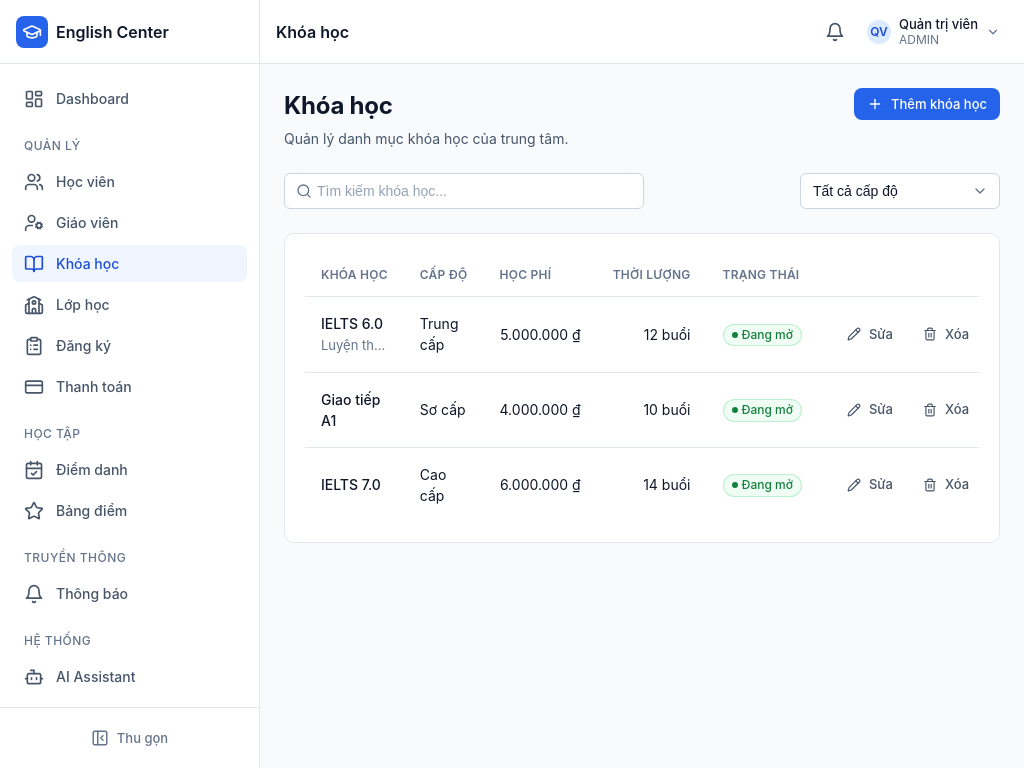
Test: CoursesPage › filters courses by search keyword and level client-side
This screenshot has width=1024, height=768.
Expected: the text "IELTS 6.0" is shown, left=321, top=313, right=388, bottom=334
Type "giao tiếp" into the search field labelled "Tìm kiếm khóa học". click: [464, 191]
box: left=284, top=173, right=644, bottom=209
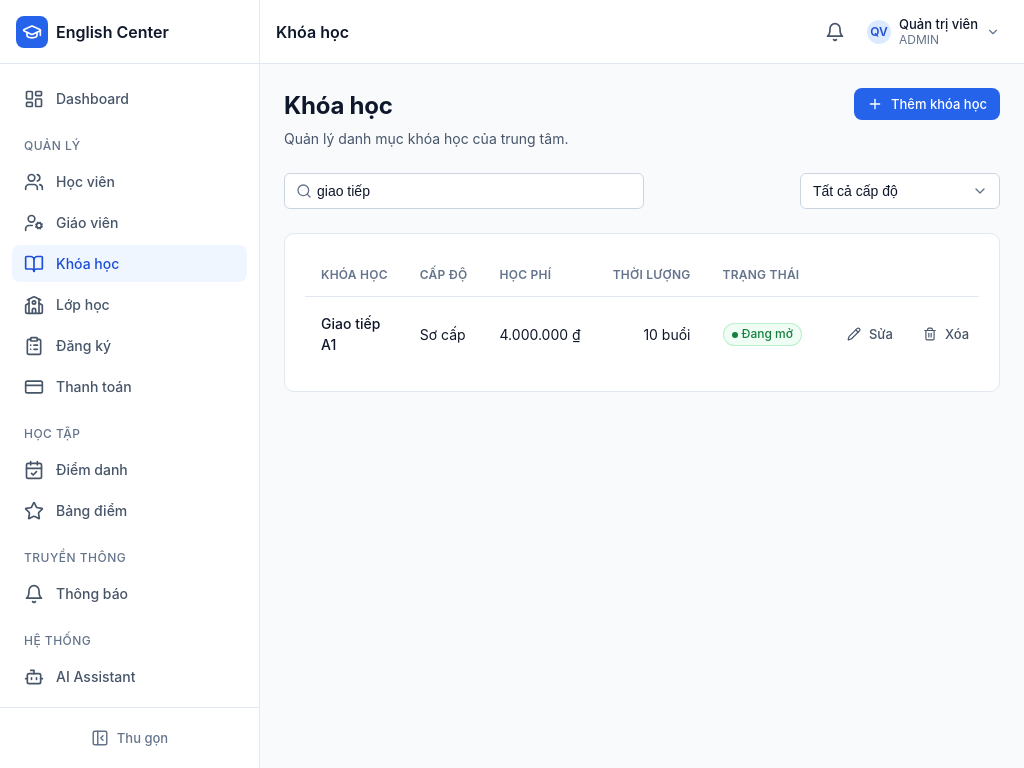
Expected: the text "Giao tiếp A1" is shown, left=321, top=313, right=388, bottom=355
Now the text "IELTS 6.0" is gone
Clear the search field named "Tìm kiếm khóa học". click: [464, 191]
box: left=284, top=173, right=644, bottom=209
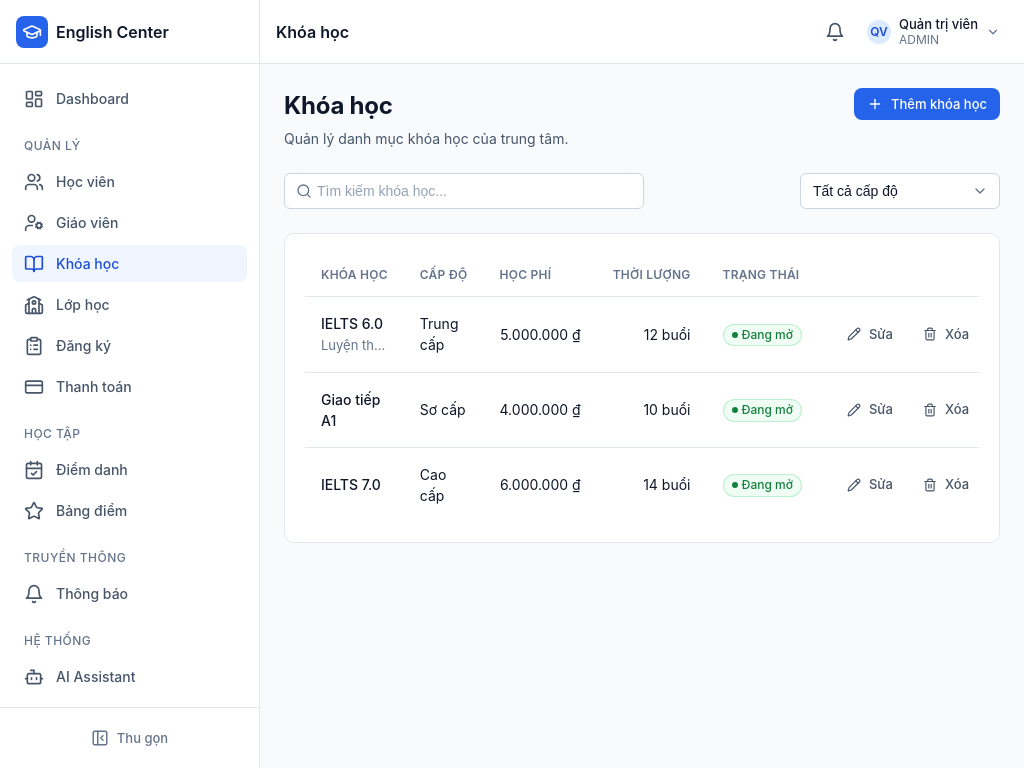
Now the text "IELTS 6.0" is shown, box left=321, top=313, right=388, bottom=334
Select "Cao cấp" in the dropdown named "Lọc theo cấp độ". click: [900, 191]
box: left=800, top=173, right=1000, bottom=209
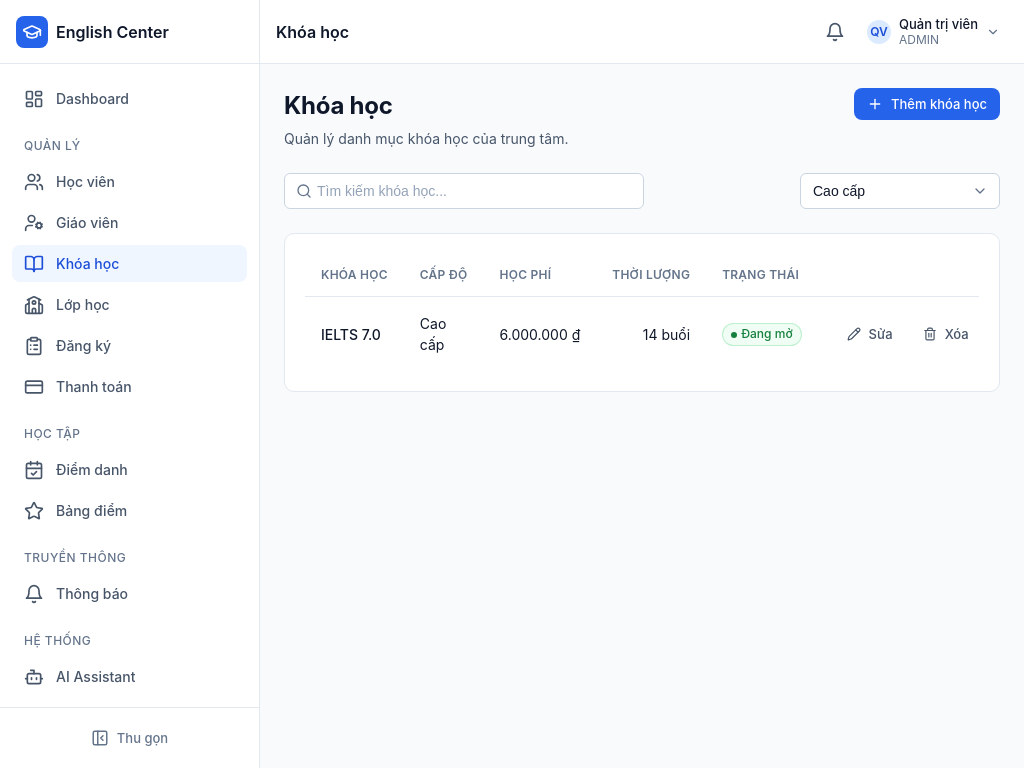
Now the text "IELTS 7.0" is shown, box left=321, top=324, right=388, bottom=344
Now the text "Giao tiếp A1" is gone
Type "không có thật" into the search field labelled "Tìm kiếm khóa học". click: [464, 191]
box: left=284, top=173, right=644, bottom=209
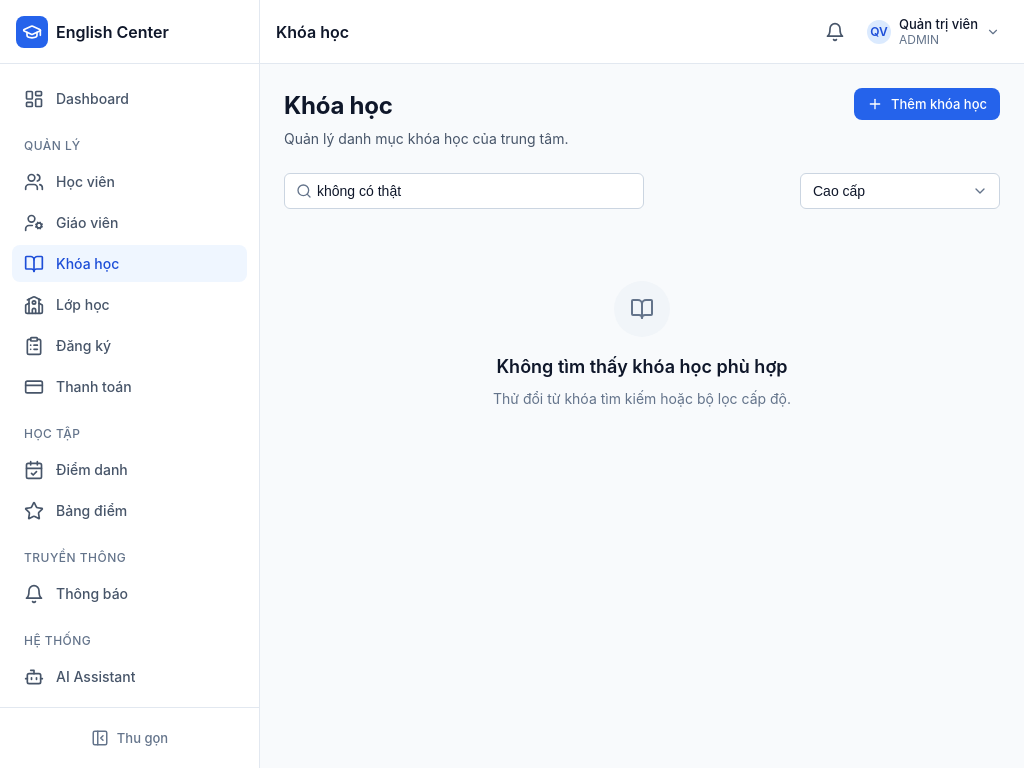
Now the heading "Không tìm thấy khóa học phù hợp" is shown, box left=496, top=353, right=788, bottom=380
